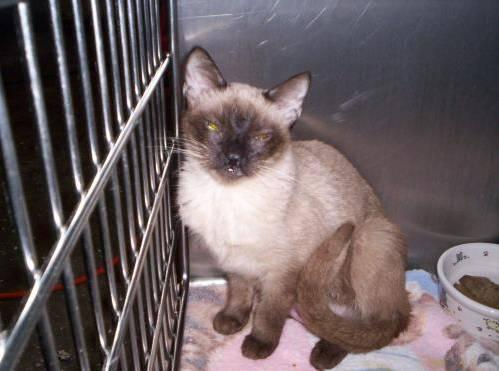cat: (177, 47, 410, 370)
